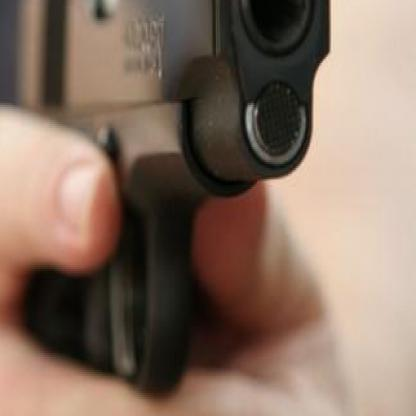gun: (14, 0, 341, 414)
